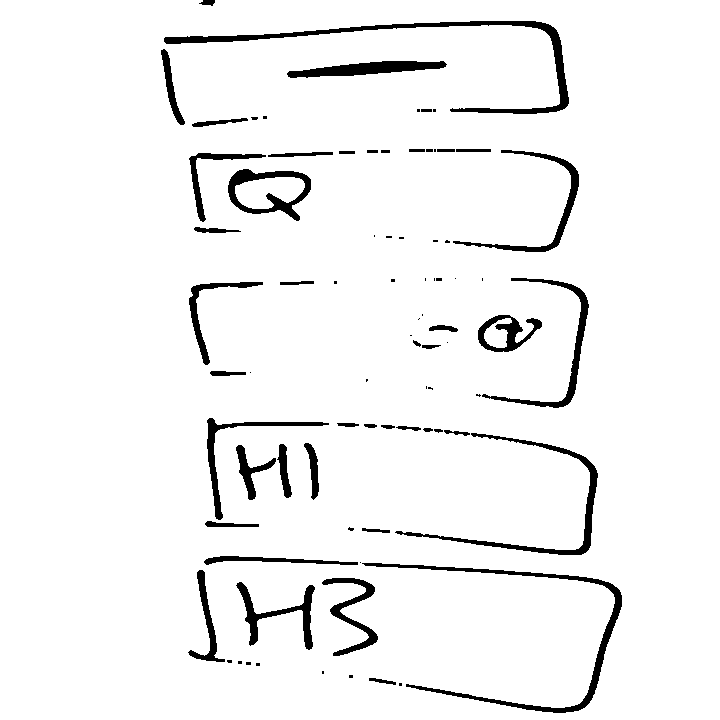button: (149, 17, 579, 129)
heading1: (197, 413, 599, 562)
heading3: (188, 552, 626, 715)
inline stepper bar: (182, 269, 594, 412)
search bar: (185, 144, 581, 262)
